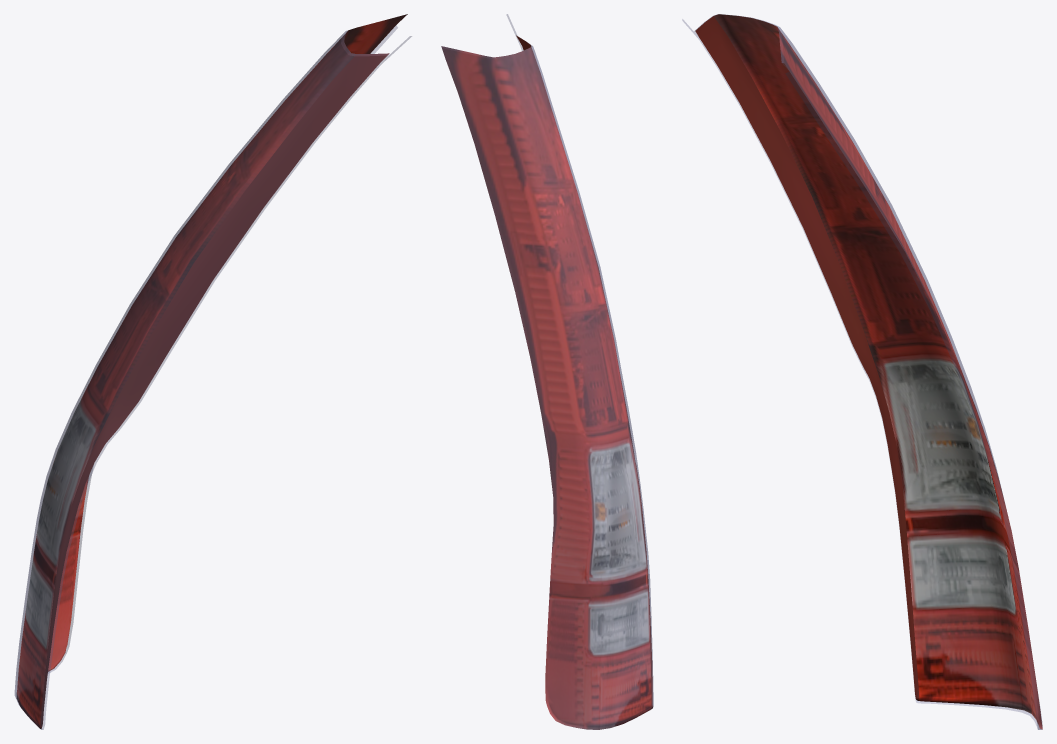
3 views of the same model, side by side, from view 1: azimuth 30°, elevation 25°; view 2: azimuth 150°, elevation 25°; view 3: azimuth 270°, elevation 25° (orthographic). The views are drawn at different scales.
Parts seen in each view (by area): view 1: H811_541C_L_1_DTaSI_H811_541C_L, H811_541C_L_H811_541C_L_2_N; view 2: H811_541C_L_1_DTaSI_H811_541C_L, H811_541C_L_H811_541C_L_2_N; view 3: H811_541C_L_H811_541C_L_2_N, H811_541C_L_1_DTaSI_H811_541C_L.
Boxes of the visible parts, x1,y1,x2,y2 form: H811_541C_L_1_DTaSI_H811_541C_L: [14, 25, 411, 729]; H811_541C_L_H811_541C_L_2_N: [16, 14, 407, 728]; H811_541C_L_1_DTaSI_H811_541C_L: [441, 14, 653, 729]; H811_541C_L_H811_541C_L_2_N: [441, 35, 652, 729]; H811_541C_L_H811_541C_L_2_N: [695, 14, 1042, 729]; H811_541C_L_1_DTaSI_H811_541C_L: [682, 14, 1042, 729].
Bounding box in the file's own units: 40.19 × 85.97 × 33.31.
